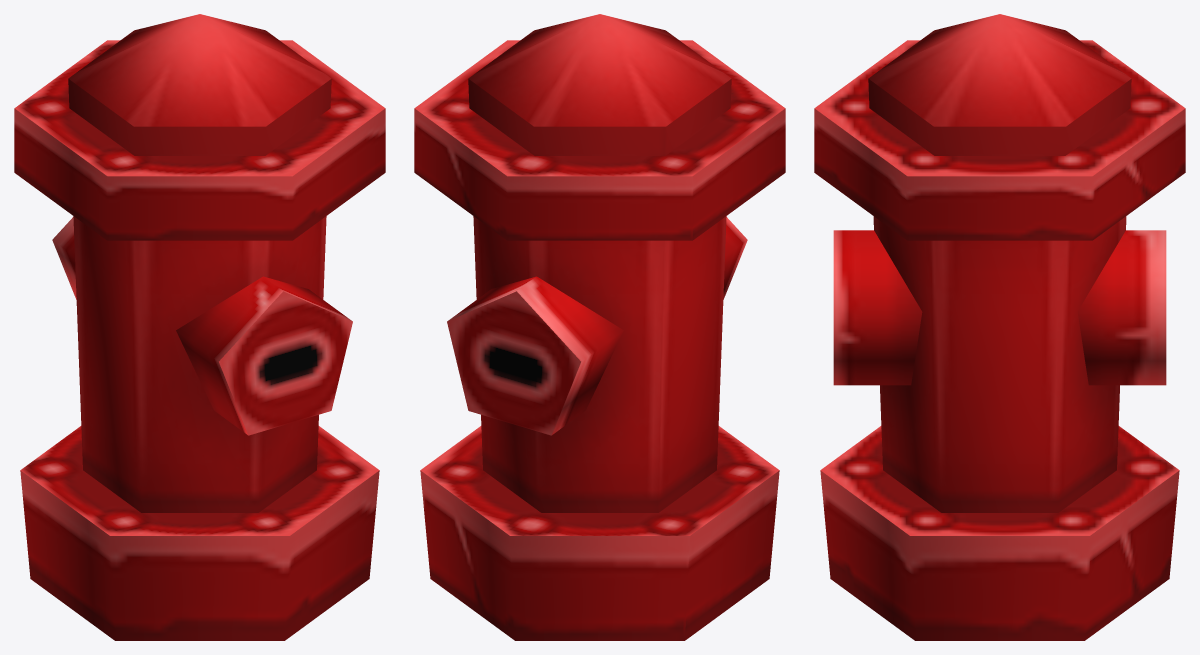
Rendered from Item_Hydrants.FBX.
3 renders of one model, left to right at view 1: azimuth 30°, elevation 25°; view 2: azimuth 150°, elevation 25°; view 3: azimuth 270°, elevation 25°, orthographic.
Parts seen in each view (by area): view 1: Item_Hydrants; view 2: Item_Hydrants; view 3: Item_Hydrants.
Part boxes in pixels (left/top/right/bottom): Item_Hydrants: left=14, top=14, right=385, bottom=640; Item_Hydrants: left=414, top=14, right=785, bottom=640; Item_Hydrants: left=814, top=14, right=1185, bottom=640.
Size of the model in its own units: 50.76 by 98.48 by 58.63.
